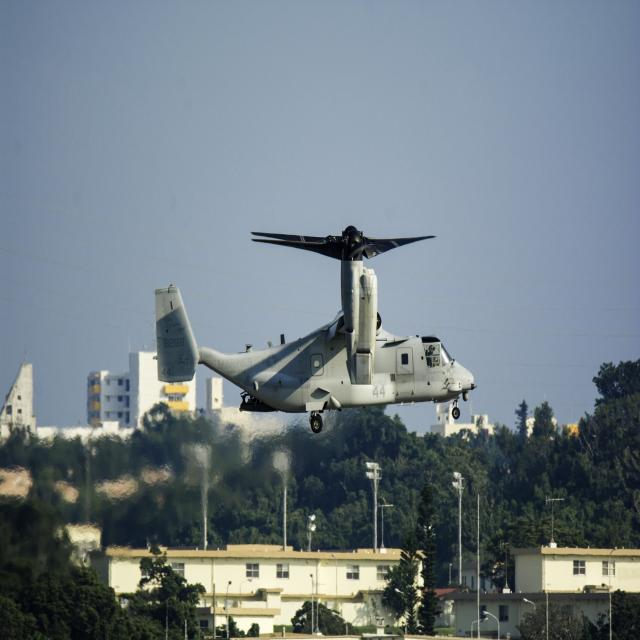MIL_Plane: (152, 281, 478, 377)
